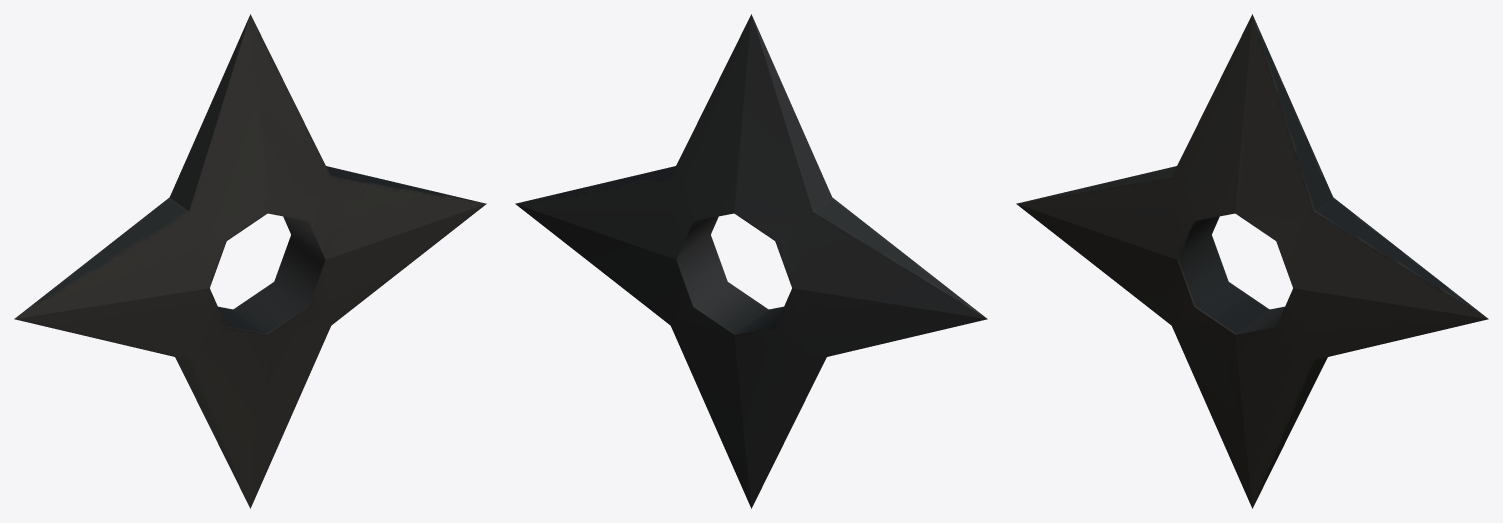
Rendered from Shuriken.fbx.
The picture shows the model from 3 angles, left to right: view 1: azimuth 30°, elevation 25°; view 2: azimuth 150°, elevation 25°; view 3: azimuth 330°, elevation 25°; orthographic projection.
Parts seen in each view (by area): view 1: suriken; view 2: suriken; view 3: suriken.
Boxes of the visible parts, left/top/right/bottom form: suriken: left=14, top=14, right=486, bottom=508; suriken: left=515, top=14, right=987, bottom=508; suriken: left=1016, top=14, right=1488, bottom=508.
Bounding box in the file's own units: 16.34 × 16.34 × 2.06.
Materials: 1 (1 with a texture image).
